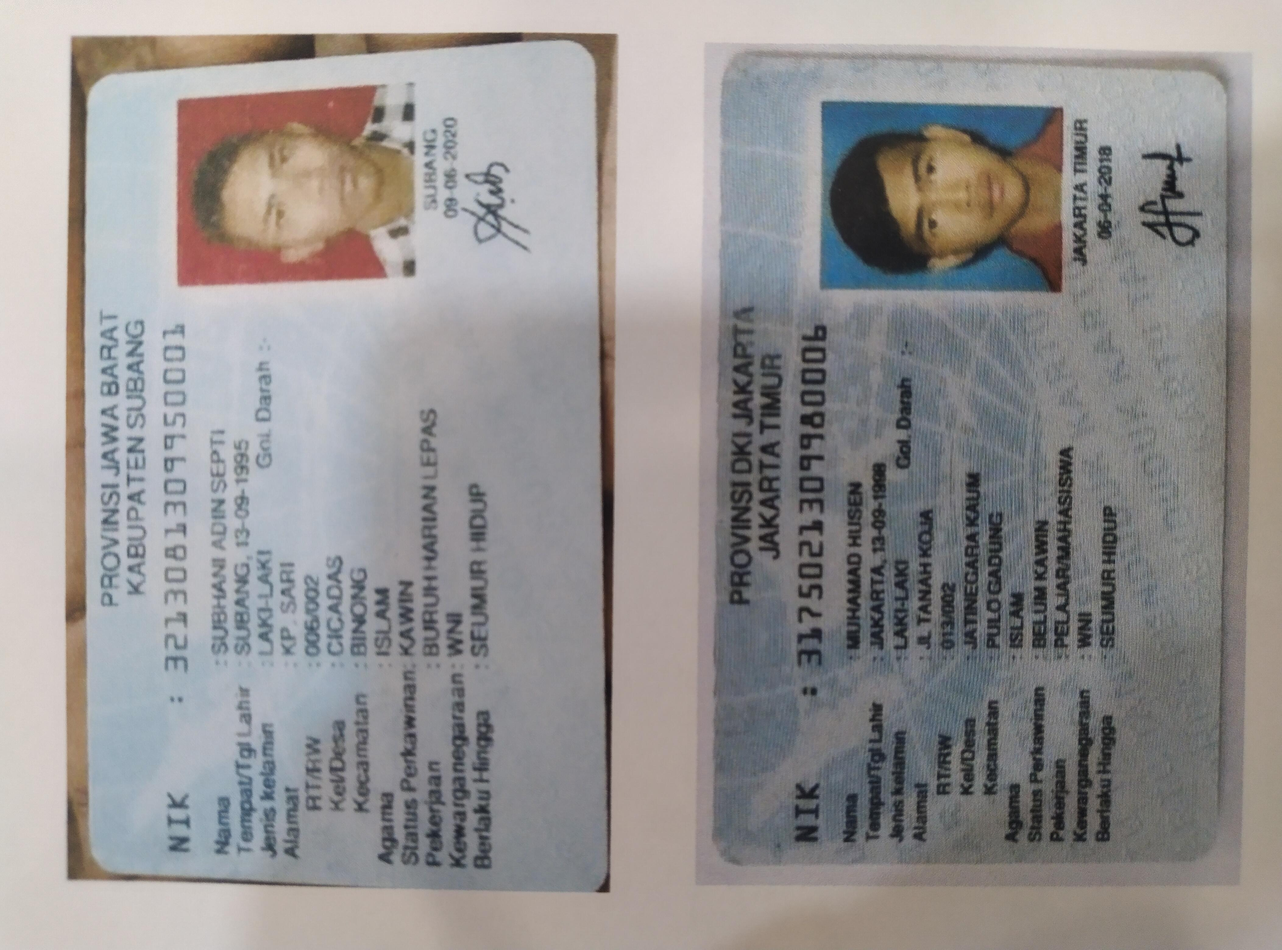ID-card: (90, 70, 1210, 434), (124, 529, 1195, 900)
